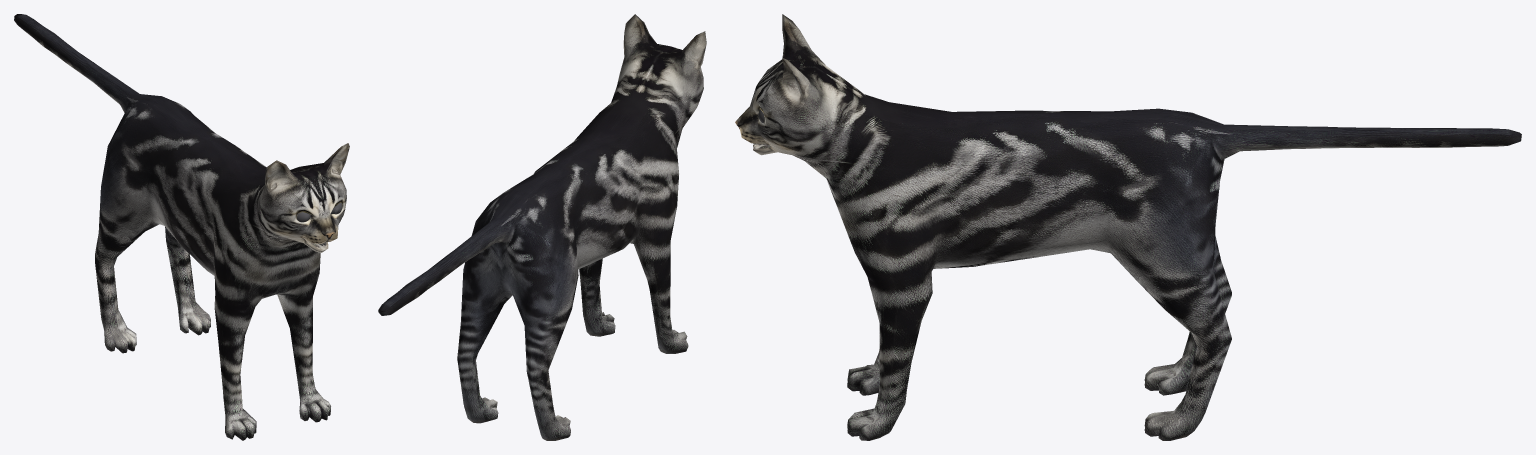
3 renders of one model, left to right at view 1: azimuth 30°, elevation 25°; view 2: azimuth 150°, elevation 25°; view 3: azimuth 270°, elevation 25°, orthographic. The views are drawn at different scales.
Parts seen in each view (by area): view 1: Mesh_0; view 2: Mesh_0; view 3: Mesh_0.
Boxes of the visible parts, <box> form: Mesh_0: <box>14,14,349,440</box>; Mesh_0: <box>378,14,706,440</box>; Mesh_0: <box>735,14,1521,440</box>.
Size of the model in its own units: 39.05 by 105 by 200.
1 material, 1 textured.
